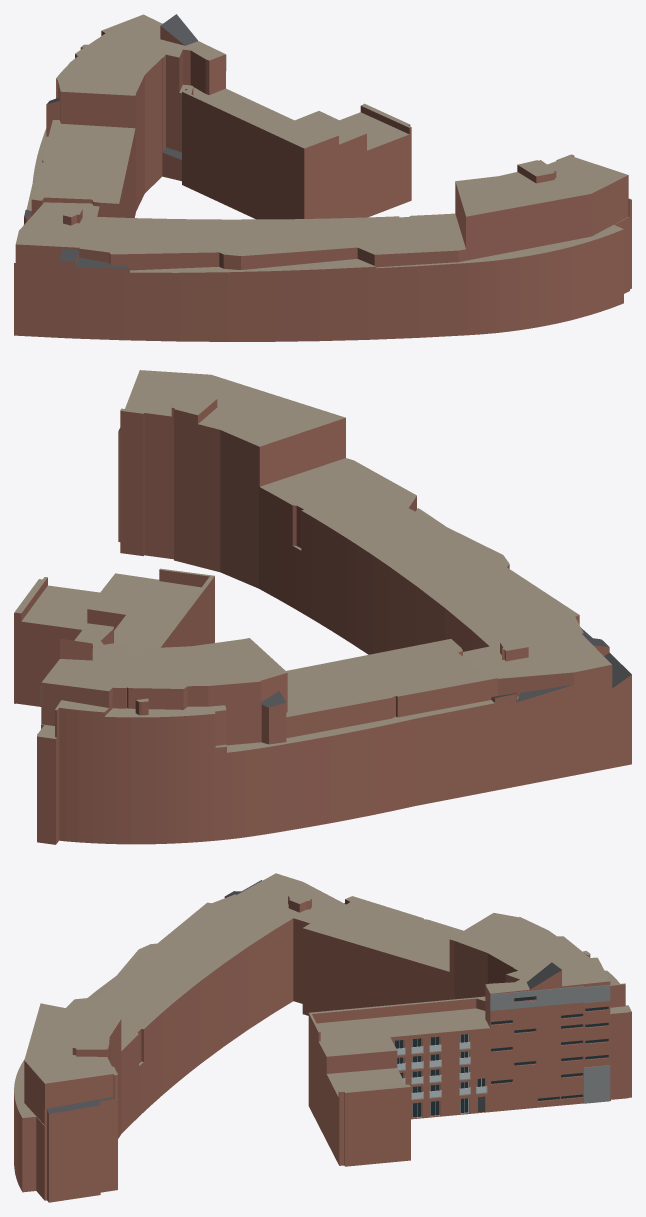
The model's file is recipe-large-celebesstraat-125-104501.glb.
The picture shows the model from 3 angles, top to bottom: view 1: azimuth 30°, elevation 25°; view 2: azimuth 150°, elevation 25°; view 3: azimuth 270°, elevation 25°; orthographic projection. The views are drawn at different scales.
Visible parts, largest first — view 1: celebesstraat-125-104501; view 2: celebesstraat-125-104501; view 3: celebesstraat-125-104501.
Boxes of the visible parts, x1,y1,x2,y2 form: celebesstraat-125-104501: (14,14,631,341); celebesstraat-125-104501: (14,370,631,844); celebesstraat-125-104501: (14,873,631,1202).
Bounding box in the file's own units: 89.12 × 22.53 × 93.1.
